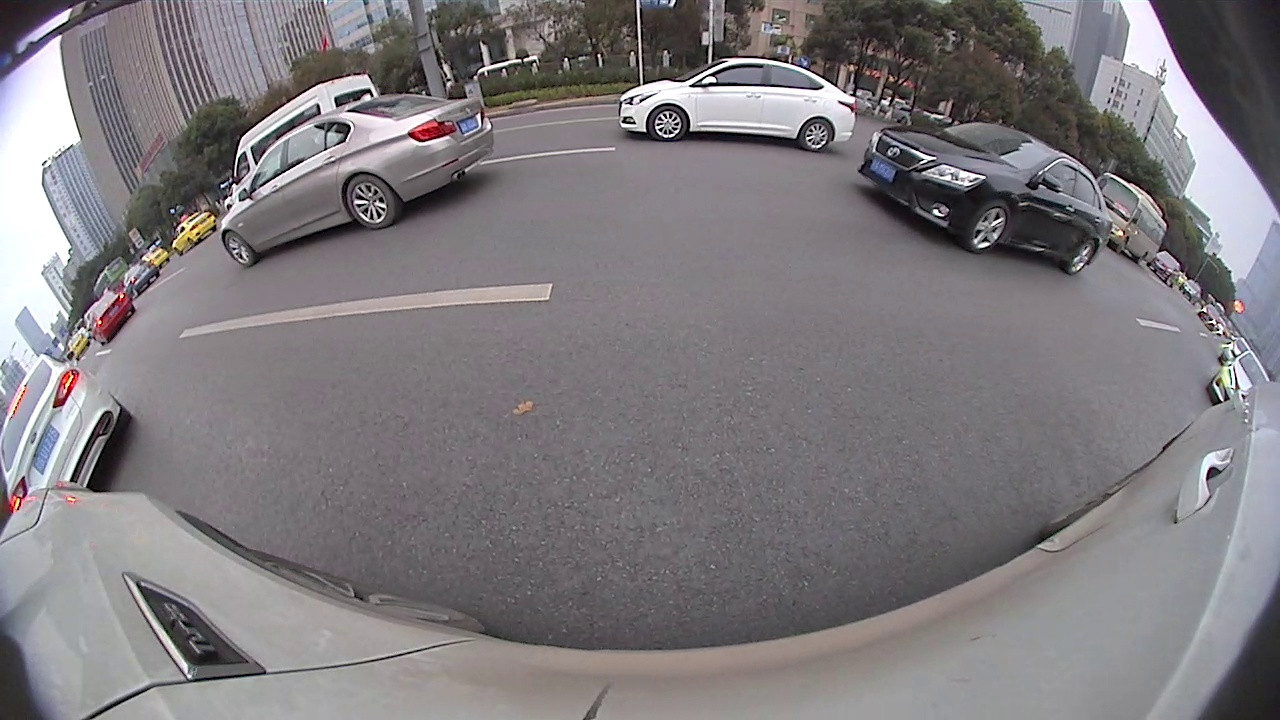bus: (1093, 174, 1164, 265)
car: (213, 93, 495, 264), (862, 127, 1112, 276), (618, 59, 859, 150), (2, 357, 129, 524), (232, 73, 402, 196), (1208, 352, 1268, 403), (86, 286, 139, 343)
front: (964, 198, 1013, 251), (650, 102, 689, 142), (222, 229, 255, 267)
rear: (346, 172, 398, 228), (1066, 237, 1100, 275), (798, 117, 832, 152)
